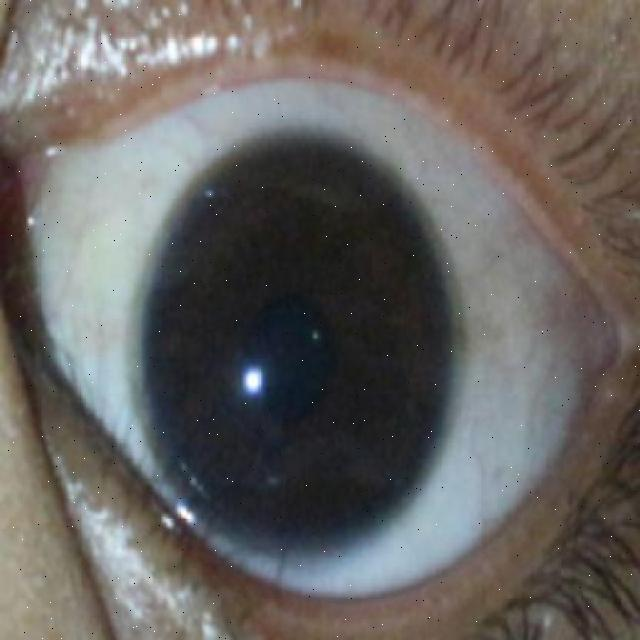Normal: (131, 134, 462, 555)
